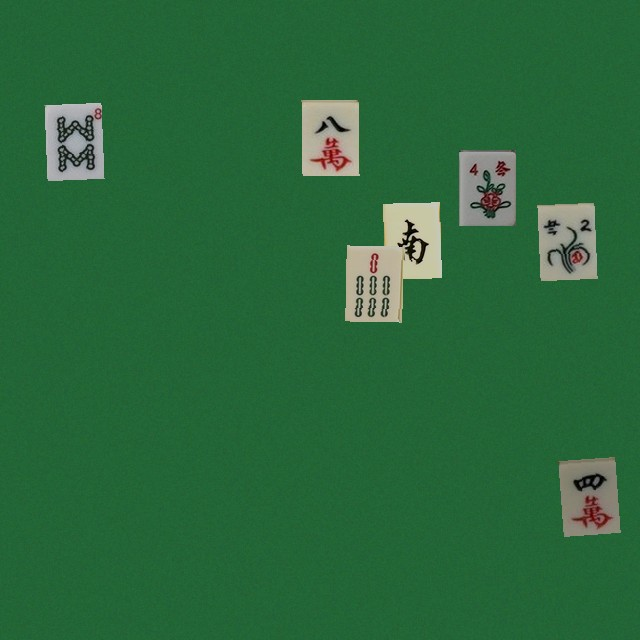tile: (558, 457, 615, 533), (44, 102, 101, 178), (537, 202, 594, 278), (383, 202, 440, 278), (301, 99, 358, 175), (345, 245, 402, 321), (458, 149, 515, 225)
